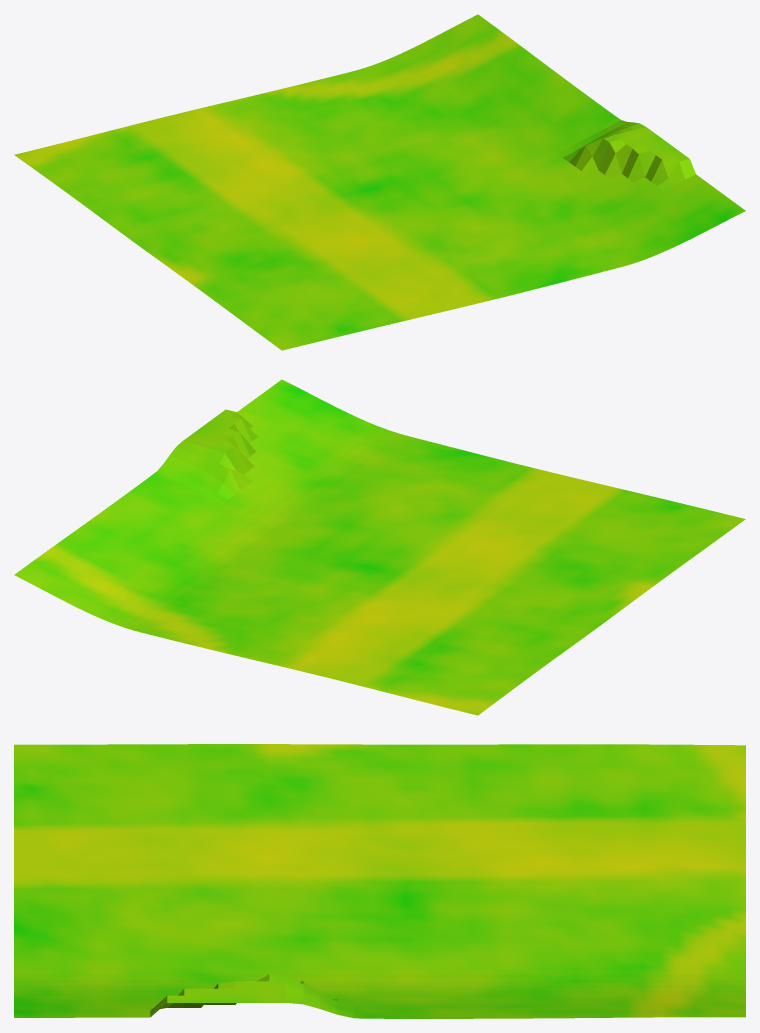
The model's file is terrain_2_2.glb.
3 views of the same model, one above another, from view 1: azimuth 30°, elevation 25°; view 2: azimuth 150°, elevation 25°; view 3: azimuth 270°, elevation 25° (orthographic). The views are drawn at different scales.
Visible parts, largest first — view 1: terrain_2_2; view 2: terrain_2_2; view 3: terrain_2_2.
Boxes of the visible parts, x1,y1,x2,y2 form: terrain_2_2: (14,14,745,350); terrain_2_2: (14,379,745,715); terrain_2_2: (14,744,745,1018).
Size of the model in its own units: 85 by 6.68 by 85.
